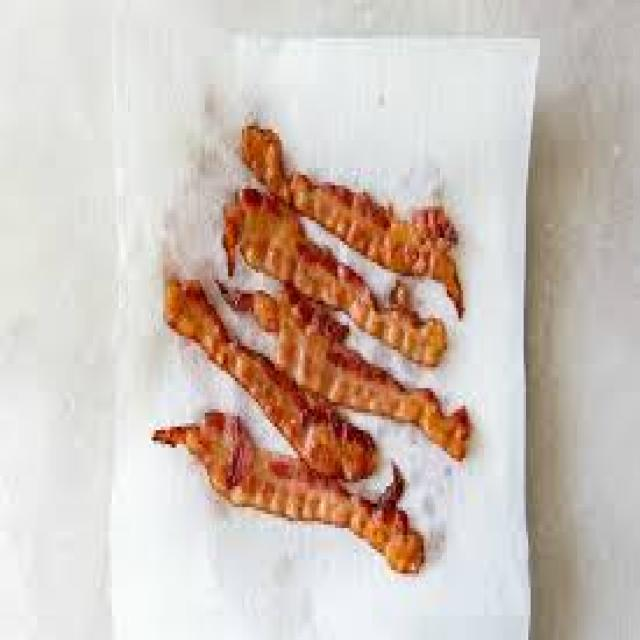Bacon: (154, 411, 424, 572), (219, 285, 471, 457), (166, 280, 375, 480), (226, 190, 429, 363), (287, 173, 461, 315)
